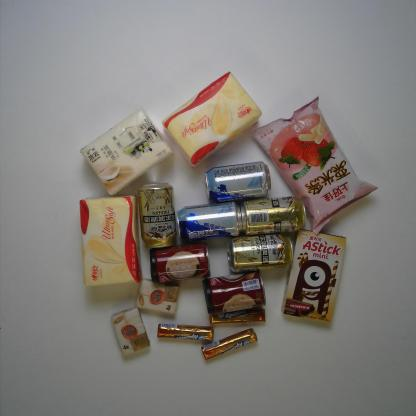Alcohol: (174, 200, 244, 245), (238, 193, 308, 237), (202, 159, 271, 203), (225, 233, 295, 274), (137, 179, 177, 250)
Candy: (202, 326, 259, 362), (155, 320, 214, 344), (208, 310, 270, 325)
Canned Food: (201, 269, 273, 311), (148, 241, 212, 285)
Dessert: (283, 220, 345, 324)
Puffed Food: (252, 96, 380, 236)
Tissue: (159, 70, 262, 166), (82, 111, 166, 195), (78, 193, 144, 290), (111, 305, 153, 360), (136, 278, 180, 317)
